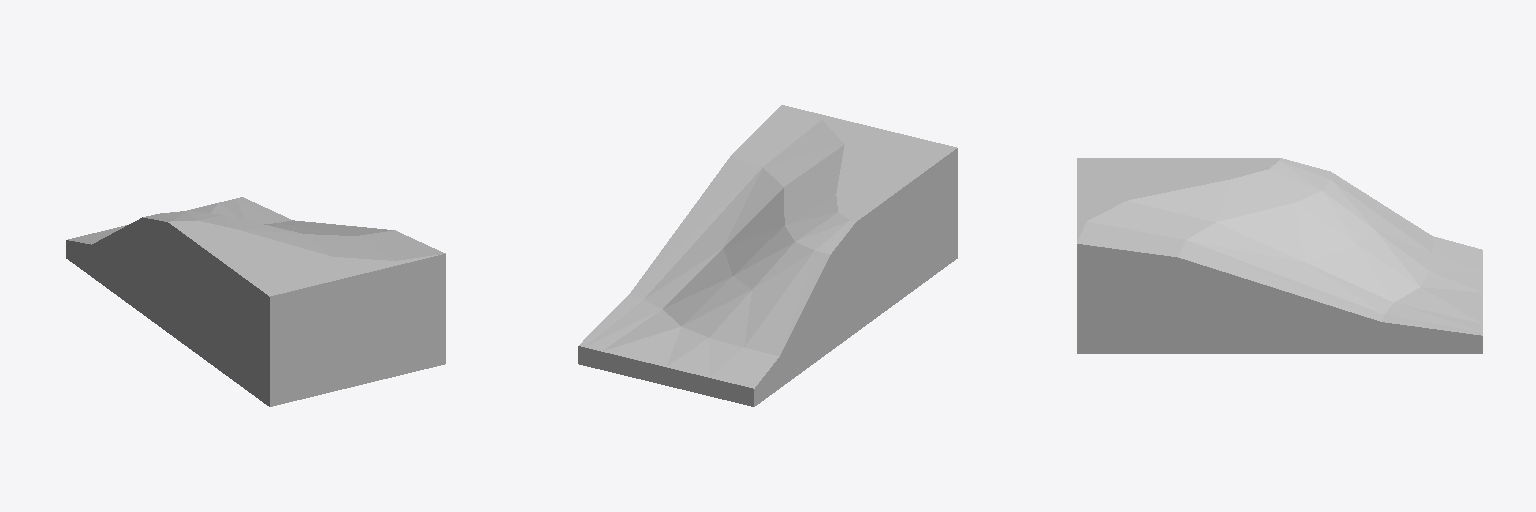
Rendered from Hill_Side_Transition_From_Gentle.obj.
3 renders of one model, left to right at view 1: azimuth 30°, elevation 25°; view 2: azimuth 150°, elevation 25°; view 3: azimuth 270°, elevation 25°, orthographic.
Parts seen in each view (by area): view 1: object1; view 2: object1; view 3: object1.
Boxes of the visible parts, <box> form: object1: <box>66,197,445,406</box>; object1: <box>578,105,957,406</box>; object1: <box>1077,158,1482,353</box>.
Size of the model in its own units: 2 by 1.2 by 4.